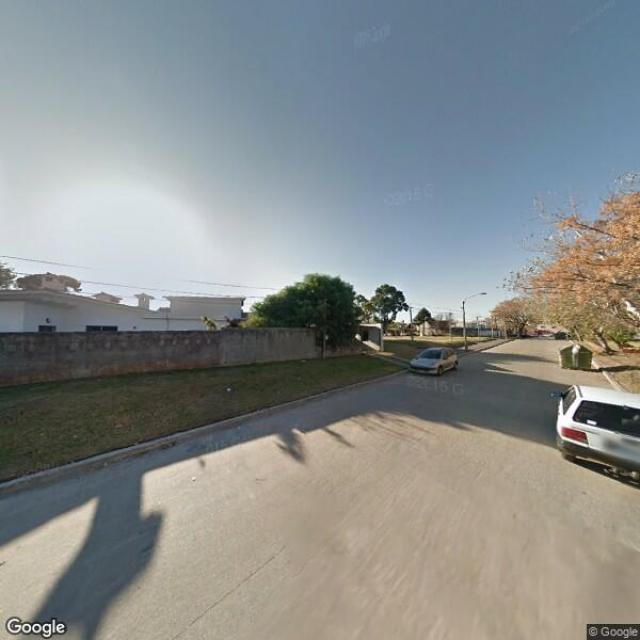garbage container: (556, 337, 604, 378)
